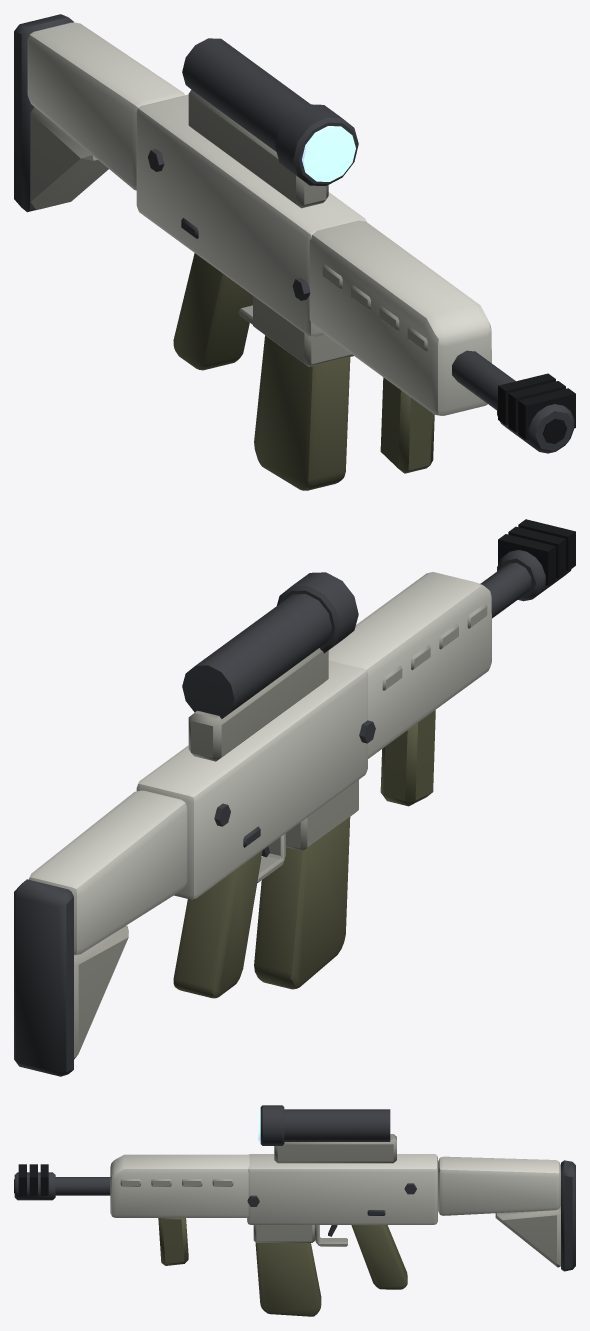
The model's file is burst_rifle.glb.
The picture shows the model from 3 angles, top to bottom: view 1: azimuth 30°, elevation 25°; view 2: azimuth 150°, elevation 25°; view 3: azimuth 270°, elevation 25°; orthographic projection. The views are drawn at different scales.
Visible parts, largest first — view 1: burst_body, burst_optic, burst_magazine, burst_metal, burst_lens; view 2: burst_body, burst_metal, burst_optic, burst_magazine; view 3: burst_body, burst_optic, burst_metal, burst_magazine.
Part boxes in pixels (x1,y1,x2,y2): burst_body: (27, 22, 491, 473); burst_optic: (182, 38, 358, 208); burst_magazine: (254, 335, 350, 490); burst_metal: (14, 14, 575, 453); burst_lens: (302, 126, 355, 181); burst_body: (28, 572, 491, 1059); burst_metal: (14, 519, 575, 1076); burst_optic: (182, 572, 358, 761); burst_magazine: (254, 817, 350, 989); burst_body: (110, 1154, 560, 1289); burst_optic: (260, 1105, 396, 1163); burst_metal: (14, 1160, 575, 1271); burst_magazine: (255, 1243, 321, 1316).
Size of the model in its own units: 0.066 by 0.3326 by 0.823.
